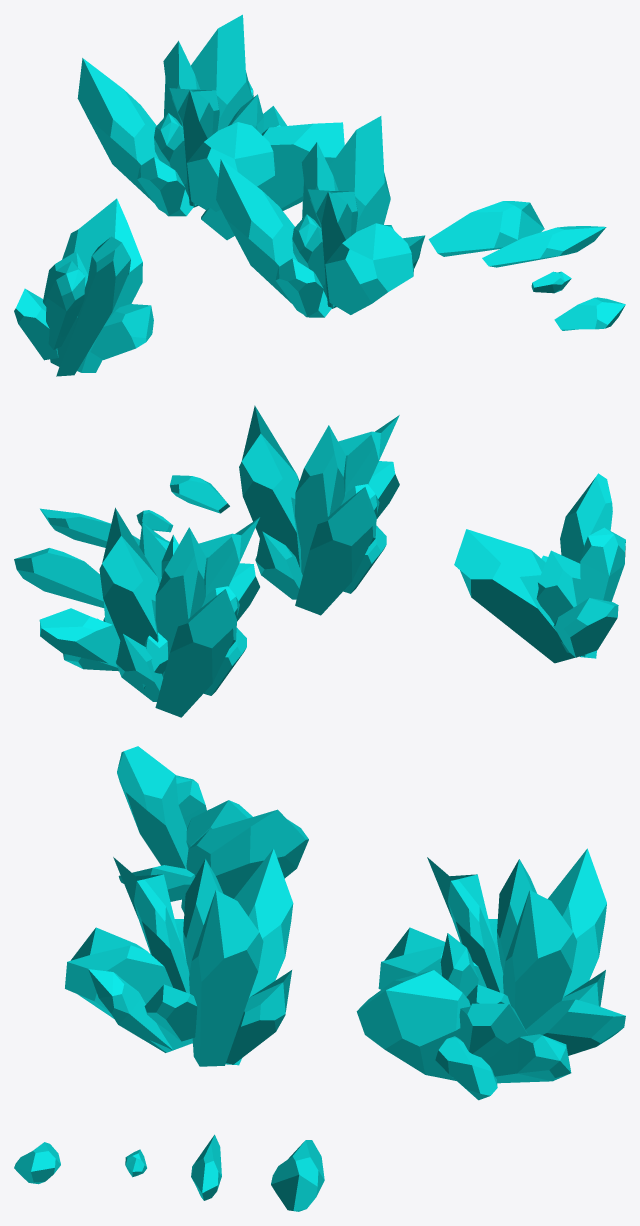
The model's file is Crystals.fbx.
3 renders of one model, top to bottom at view 1: azimuth 30°, elevation 25°; view 2: azimuth 150°, elevation 25°; view 3: azimuth 270°, elevation 25°, orthographic. The views are drawn at different scales.
Parts seen in each view (by area): view 1: CrystalClust2, CrystalClust1, CrystalClust3, Crystal1, Crysta2, Crystal4, Crystal3; view 2: CrystalClust2, CrystalClust1, CrystalClust3, Crystal1, Crysta2, Crystal4, Crystal3; view 3: CrystalClust2, CrystalClust1, CrystalClust3, Crystal1, Crysta2, Crystal4.
Boxes of the visible parts, box(x1,y1,x2,y2) form: CrystalClust2: box(77, 14, 344, 240); CrystalClust1: box(216, 116, 425, 317); CrystalClust3: box(14, 198, 153, 376); Crystal1: box(428, 201, 544, 256); Crysta2: box(482, 226, 606, 267); Crystal4: box(554, 297, 625, 330); Crystal3: box(531, 271, 571, 293); CrystalClust2: box(39, 507, 259, 717); CrystalClust1: box(239, 405, 399, 615); CrystalClust3: box(454, 473, 625, 663); Crystal1: box(14, 548, 104, 607); Crysta2: box(40, 508, 139, 547); Crystal4: box(170, 475, 229, 513); Crystal3: box(136, 510, 173, 532); CrystalClust2: box(356, 848, 625, 1100); CrystalClust1: box(65, 848, 293, 1066); CrystalClust3: box(117, 746, 308, 913); Crystal1: box(271, 1140, 324, 1211); Crysta2: box(191, 1134, 221, 1200); Crystal4: box(14, 1142, 60, 1184).
Bounding box in the file's own units: 291 × 95.49 × 234.
